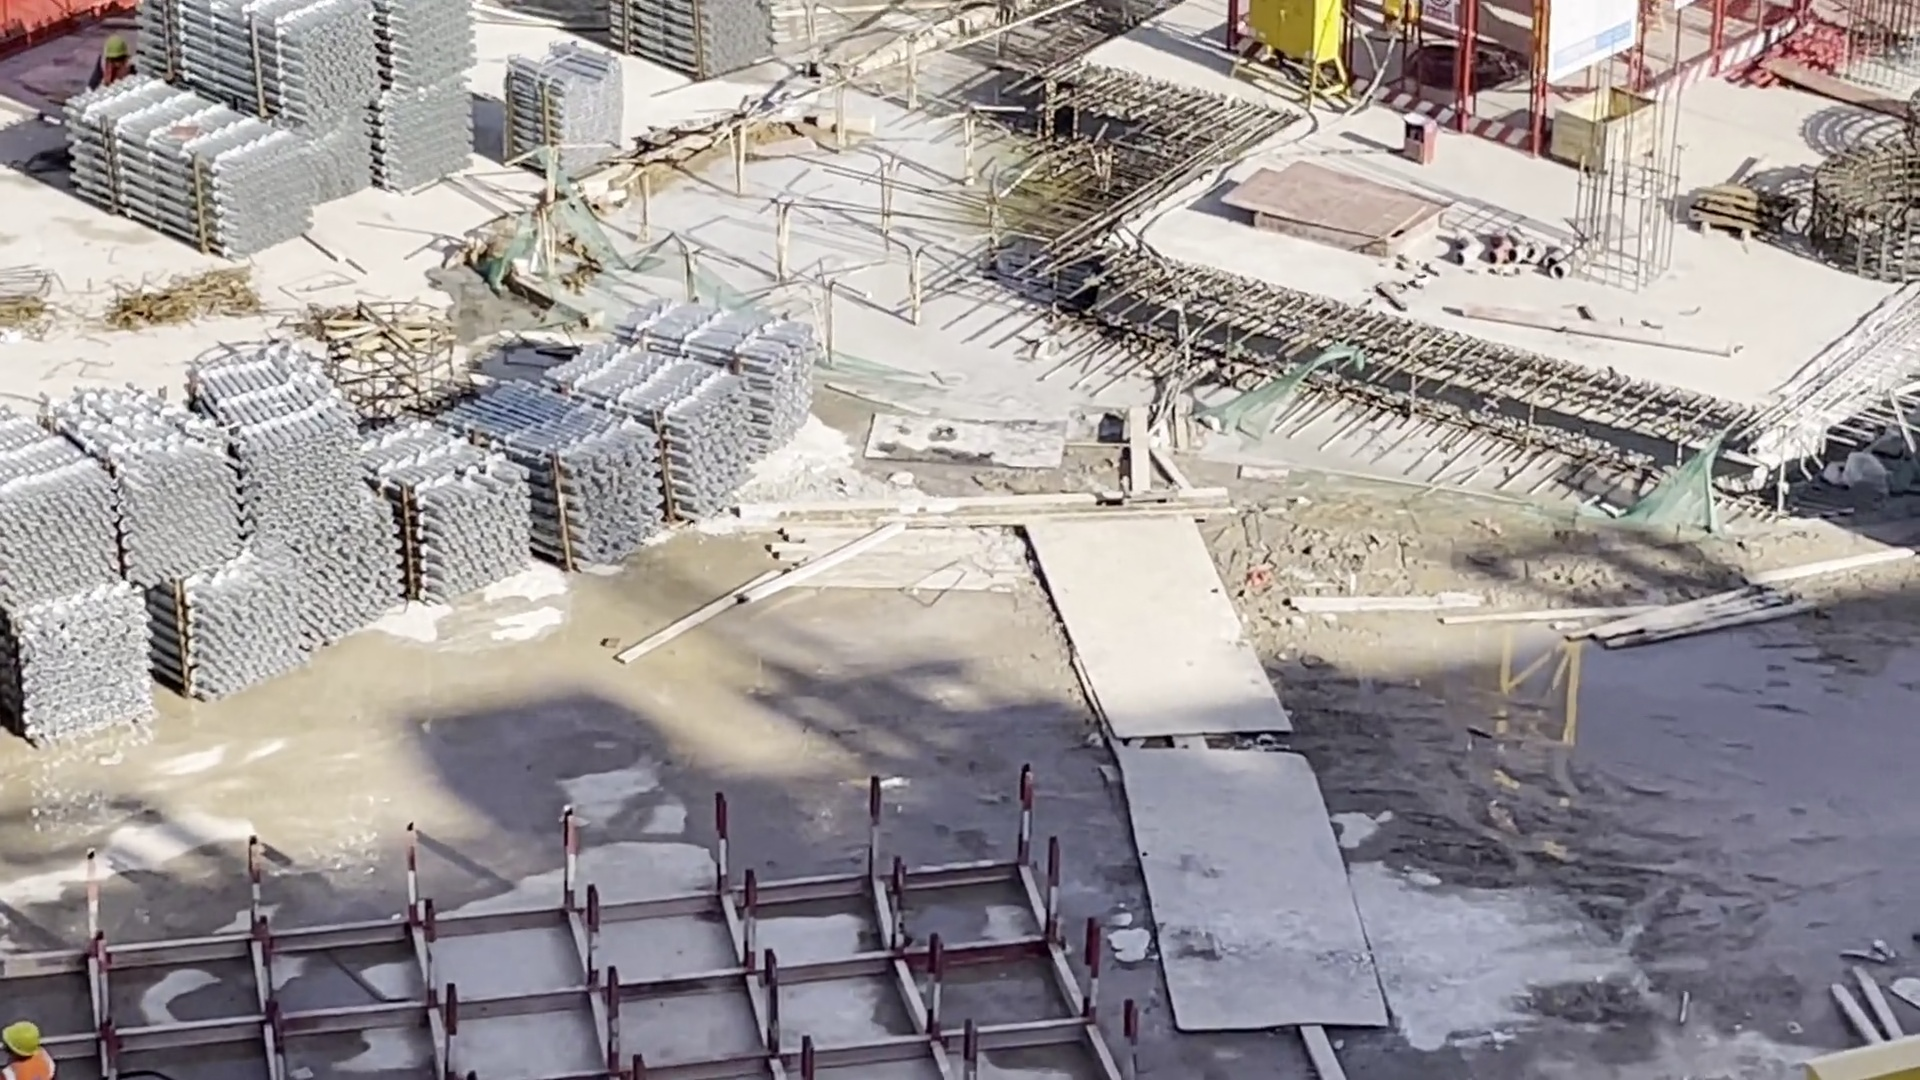board: (1240, 148, 1464, 248)
ebox: (1247, 1, 1347, 109)
helmet: (1, 1009, 39, 1049)
person: (5, 995, 68, 1080)
scaffold: (1, 287, 820, 751), (143, 1, 473, 228), (503, 43, 621, 177)
